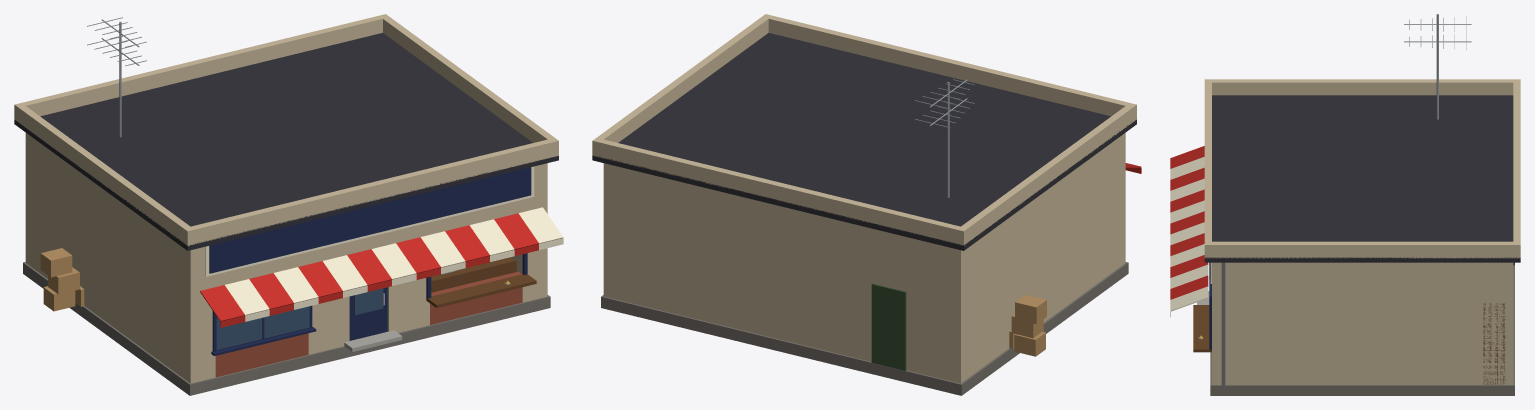
Rendered from shop.sols.glb.
The picture shows the model from 3 angles, left to right: view 1: azimuth 30°, elevation 25°; view 2: azimuth 150°, elevation 25°; view 3: azimuth 270°, elevation 25°; orthographic projection. The views are drawn at different scales.
Parts seen in each view (by area): view 1: roof, wall-side-1, sign, parapet-f, parapet-b, plinth, fascia, parapet-s-1, parapet-s1, pier-5.0, pier0.55, pier-1.7 (+29 smaller); view 2: roof, wall-back, wall-side-1, parapet-b, parapet-f, plinth, parapet-s-1, parapet-s1, back-door, empties2, pier-5.0, empties0 (+1 smaller); view 3: roof, wall-side1, parapet-s1, parapet-s-1, plinth, parapet-b, parapet-f, wall-back, pier4.3, shelves, counter-shelf, drainpipe (+15 smaller).
Part boxes in pixels (bbox=[...]): roof: bbox=[14, 33, 558, 250]; wall-side-1: bbox=[30, 136, 186, 380]; sign: bbox=[209, 167, 531, 273]; parapet-f: bbox=[183, 138, 558, 245]; parapet-b: bbox=[21, 14, 388, 116]; plinth: bbox=[23, 262, 550, 395]; fascia: bbox=[189, 163, 547, 304]; parapet-s-1: bbox=[14, 103, 194, 245]; parapet-s1: bbox=[379, 14, 556, 142]; pier-5.0: bbox=[186, 247, 215, 383]; pier0.55: bbox=[387, 222, 429, 332]; pier-1.7: bbox=[308, 242, 349, 354]; roof: bbox=[592, 33, 1136, 250]; wall-back: bbox=[603, 163, 964, 383]; wall-side-1: bbox=[965, 136, 1121, 380]; parapet-b: bbox=[592, 137, 966, 245]; parapet-f: bbox=[762, 14, 1131, 116]; plinth: bbox=[601, 262, 1128, 395]; parapet-s-1: bbox=[956, 103, 1136, 245]; parapet-s1: bbox=[594, 14, 771, 142]; back-door: bbox=[871, 283, 906, 370]; empties2: bbox=[1015, 295, 1046, 324]; pier-5.0: bbox=[1121, 133, 1125, 265]; empties0: bbox=[1014, 331, 1045, 356]; roof: bbox=[1204, 95, 1520, 262]; wall-side1: bbox=[1219, 262, 1505, 384]; parapet-s1: bbox=[1204, 241, 1520, 258]; parapet-s-1: bbox=[1204, 79, 1520, 95]; plinth: bbox=[1210, 265, 1514, 395]; parapet-b: bbox=[1513, 79, 1520, 253]; parapet-f: bbox=[1204, 80, 1211, 250]; wall-back: bbox=[1505, 262, 1513, 384]; pier4.3: bbox=[1212, 262, 1219, 384]; shelves: bbox=[1483, 303, 1505, 384]; counter-shelf: bbox=[1193, 305, 1211, 352]; drainpipe: bbox=[1221, 262, 1225, 386].
Size of the model in its own units: 11.05 by 7.2 by 9.31.
